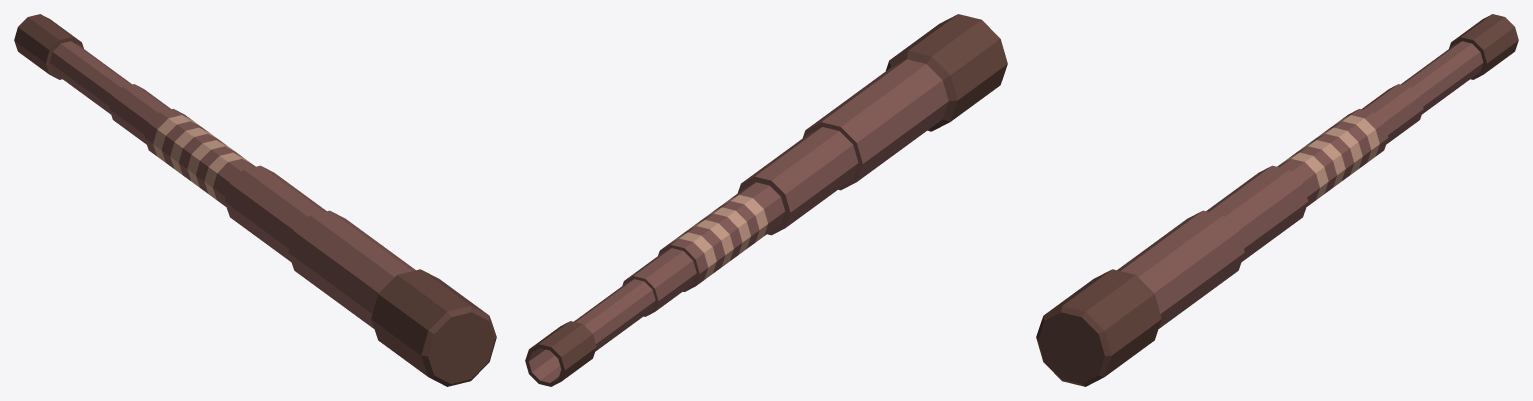
The model's file is SM_Tank_04_Gun.fbx.
The picture shows the model from 3 angles, left to right: view 1: azimuth 30°, elevation 25°; view 2: azimuth 150°, elevation 25°; view 3: azimuth 330°, elevation 25°; orthographic projection.
Visible parts, largest first — view 1: SM_Tank_04_Gun; view 2: SM_Tank_04_Gun; view 3: SM_Tank_04_Gun.
Part boxes in pixels (x1,y1,x2,y2): SM_Tank_04_Gun: [14, 14, 496, 386]; SM_Tank_04_Gun: [525, 14, 1007, 386]; SM_Tank_04_Gun: [1036, 14, 1518, 386].
Size of the model in its own units: 1.47 by 1.4 by 14.39.
